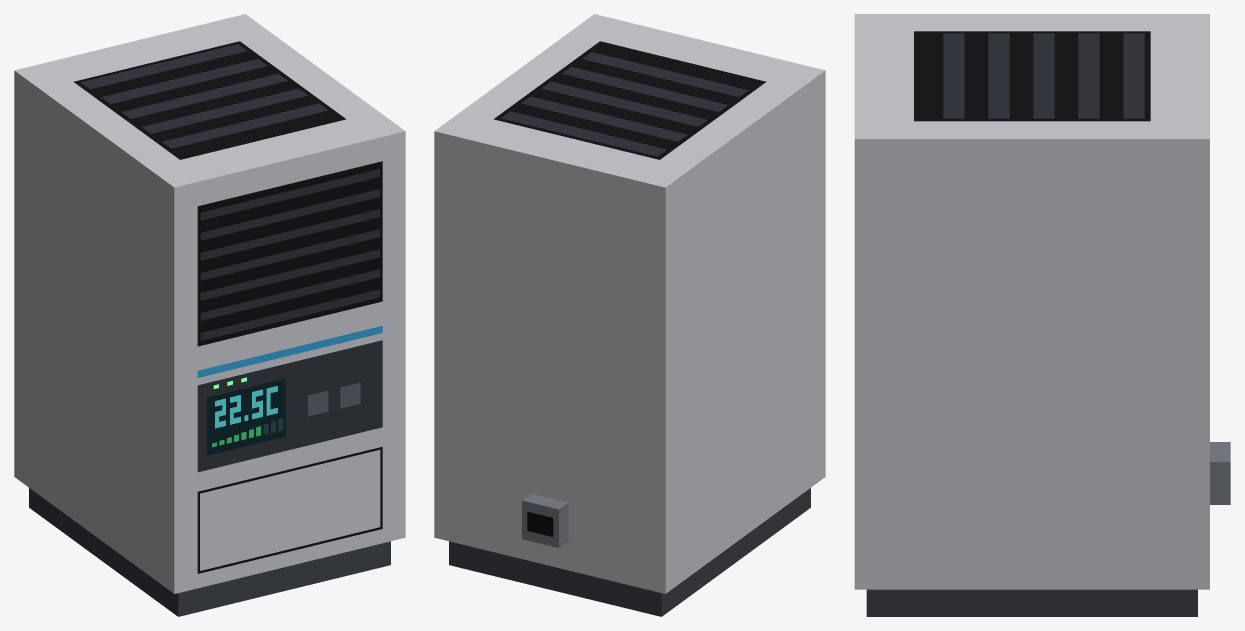
File: Cooling_Compact.glb
3 views of the same model, side by side, from view 1: azimuth 30°, elevation 25°; view 2: azimuth 150°, elevation 25°; view 3: azimuth 270°, elevation 25° (orthographic). The views are drawn at different scales.
Visible parts, largest first — view 1: Cooling_Compact; view 2: Cooling_Compact; view 3: Cooling_Compact.
Boxes of the visible parts, <box> form: Cooling_Compact: <box>14,14,405,616</box>; Cooling_Compact: <box>434,14,825,616</box>; Cooling_Compact: <box>854,14,1230,616</box>.
Size of the model in its own units: 0.5 by 0.901 by 0.6365.
2 materials, 1 textured.
